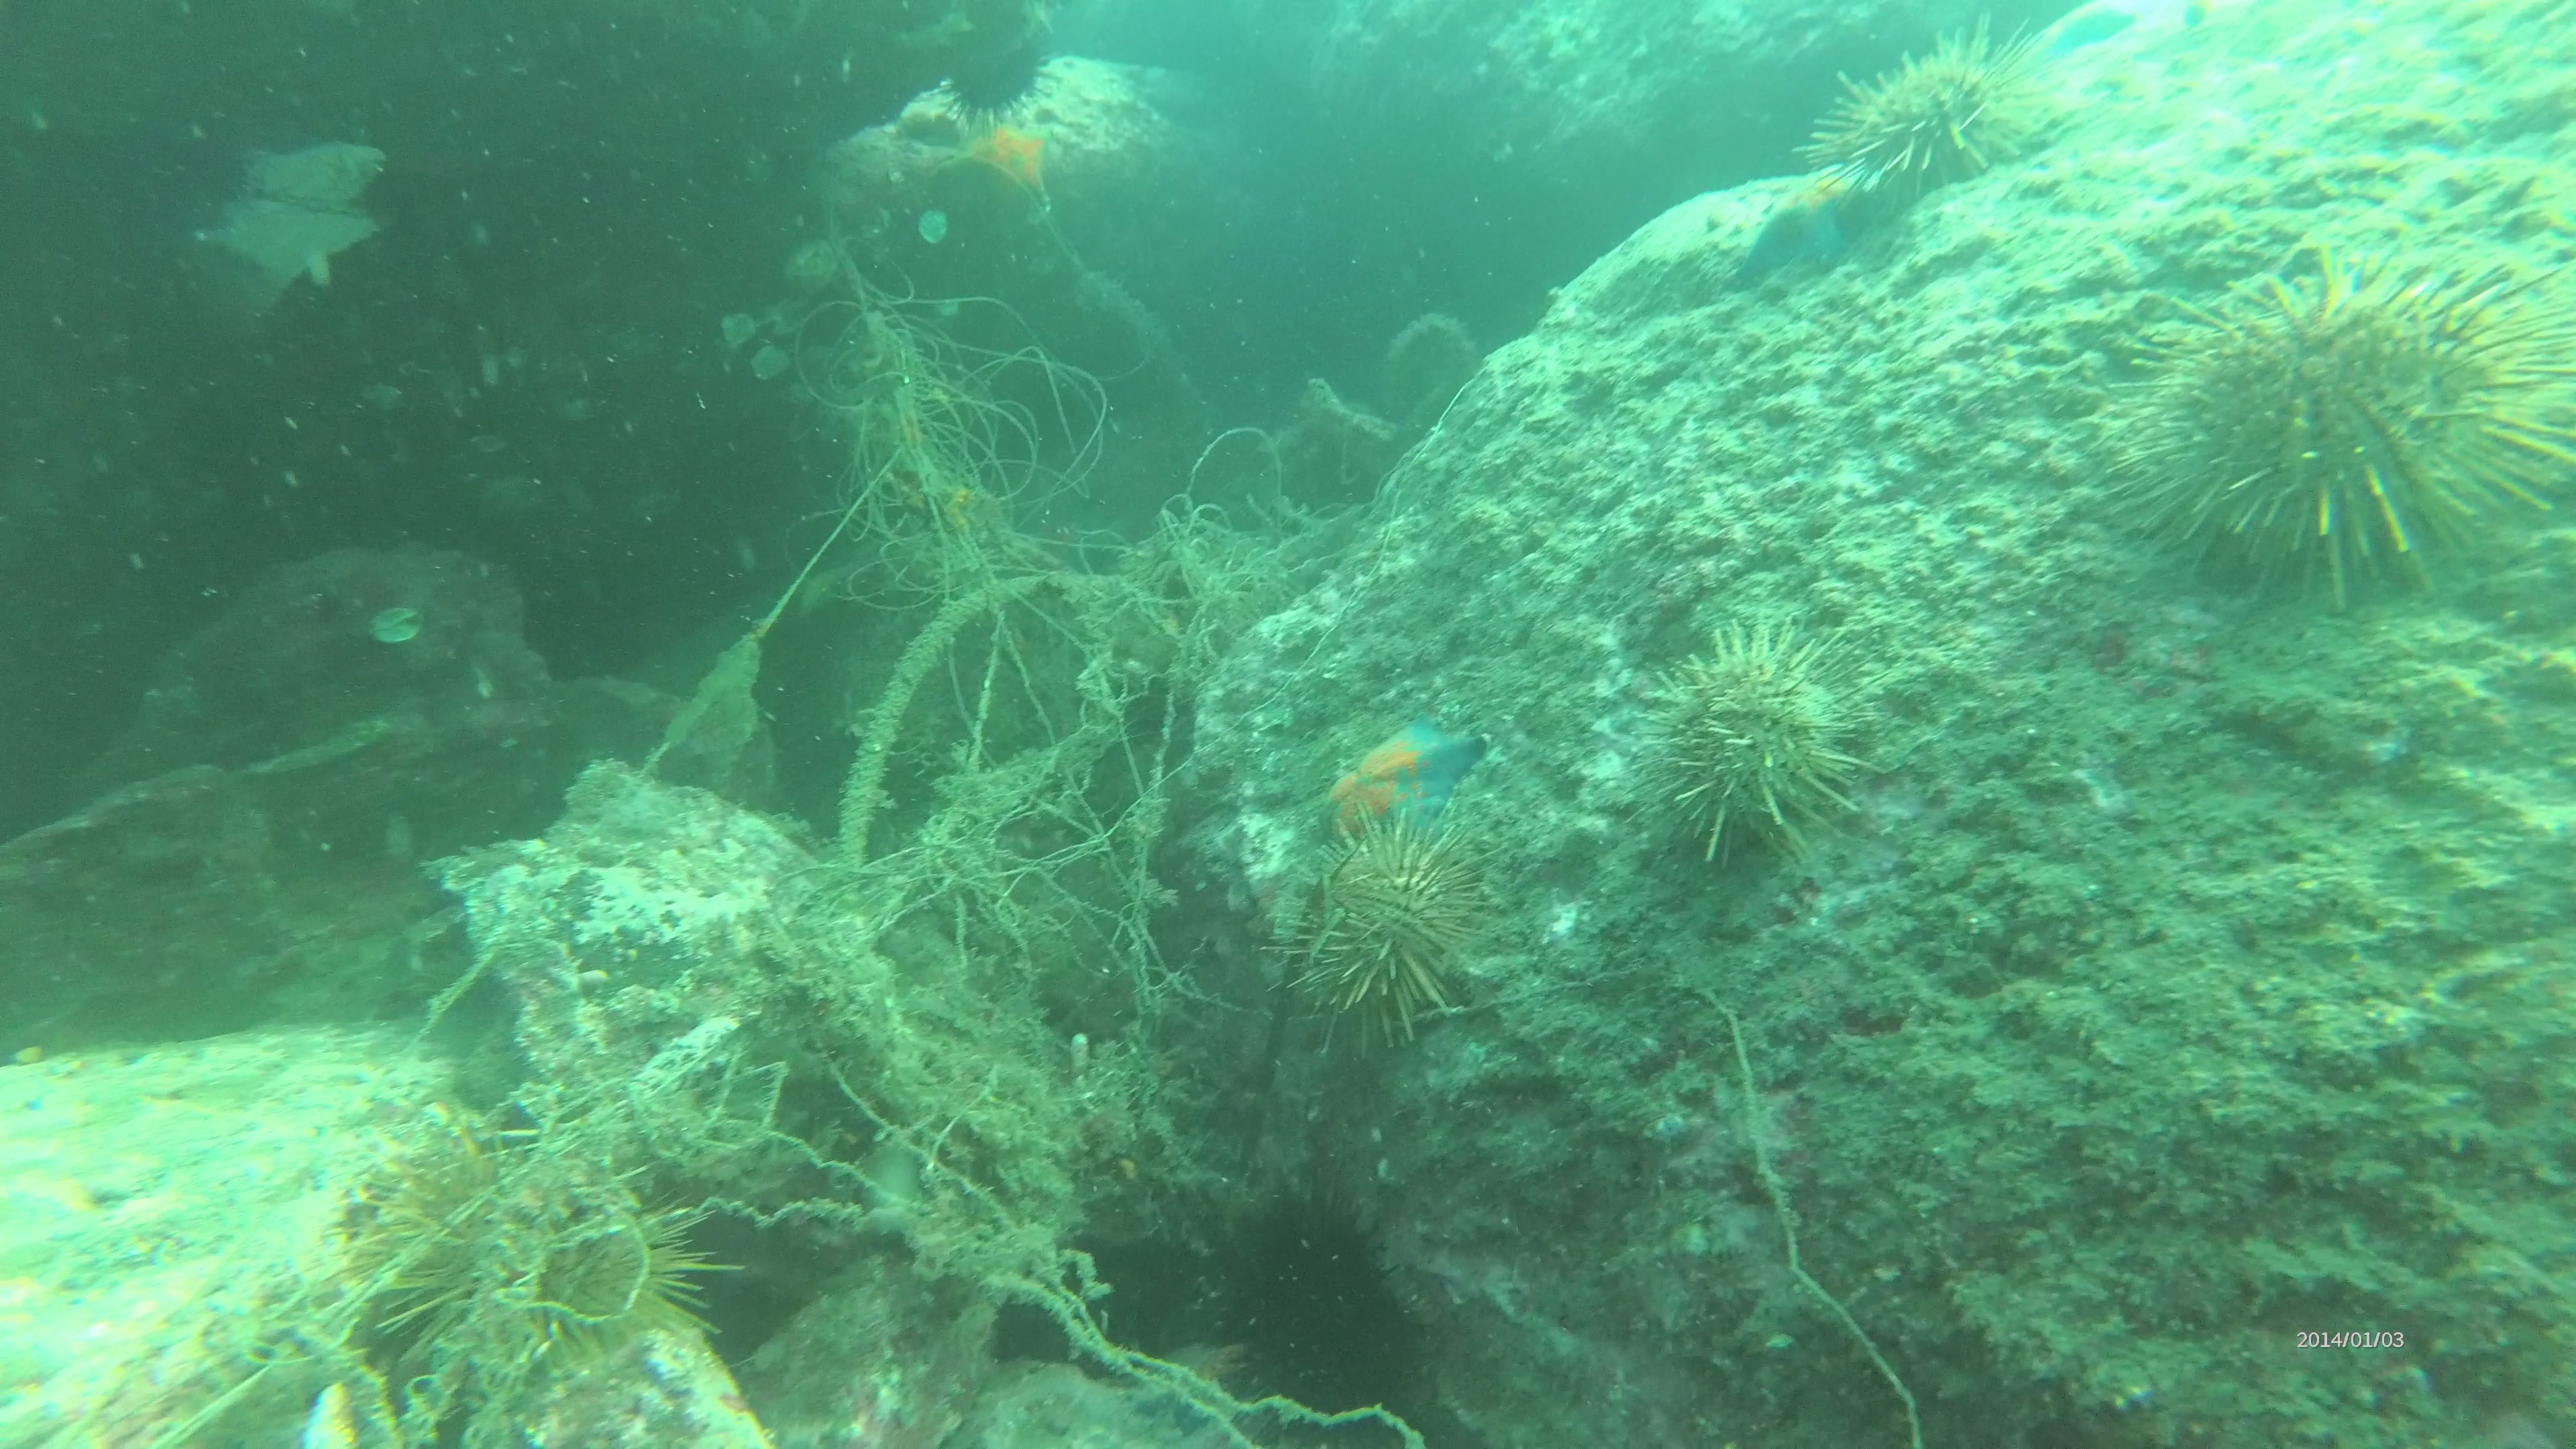echinus: (2112, 269, 2574, 591), (1663, 626, 1888, 853), (1292, 865, 1497, 1058), (1810, 37, 2043, 205), (936, 11, 1054, 117)
starfish: (1315, 722, 1486, 846), (1743, 152, 1882, 283), (954, 122, 1065, 239), (2040, 0, 2151, 64)
